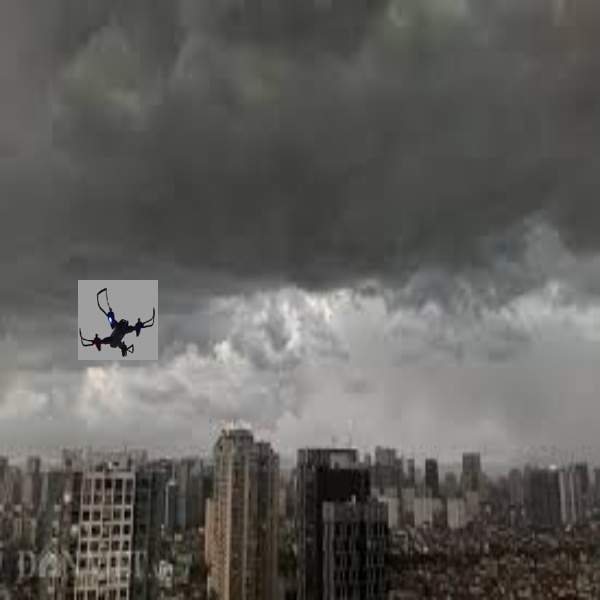drone: (80, 281, 158, 361)
